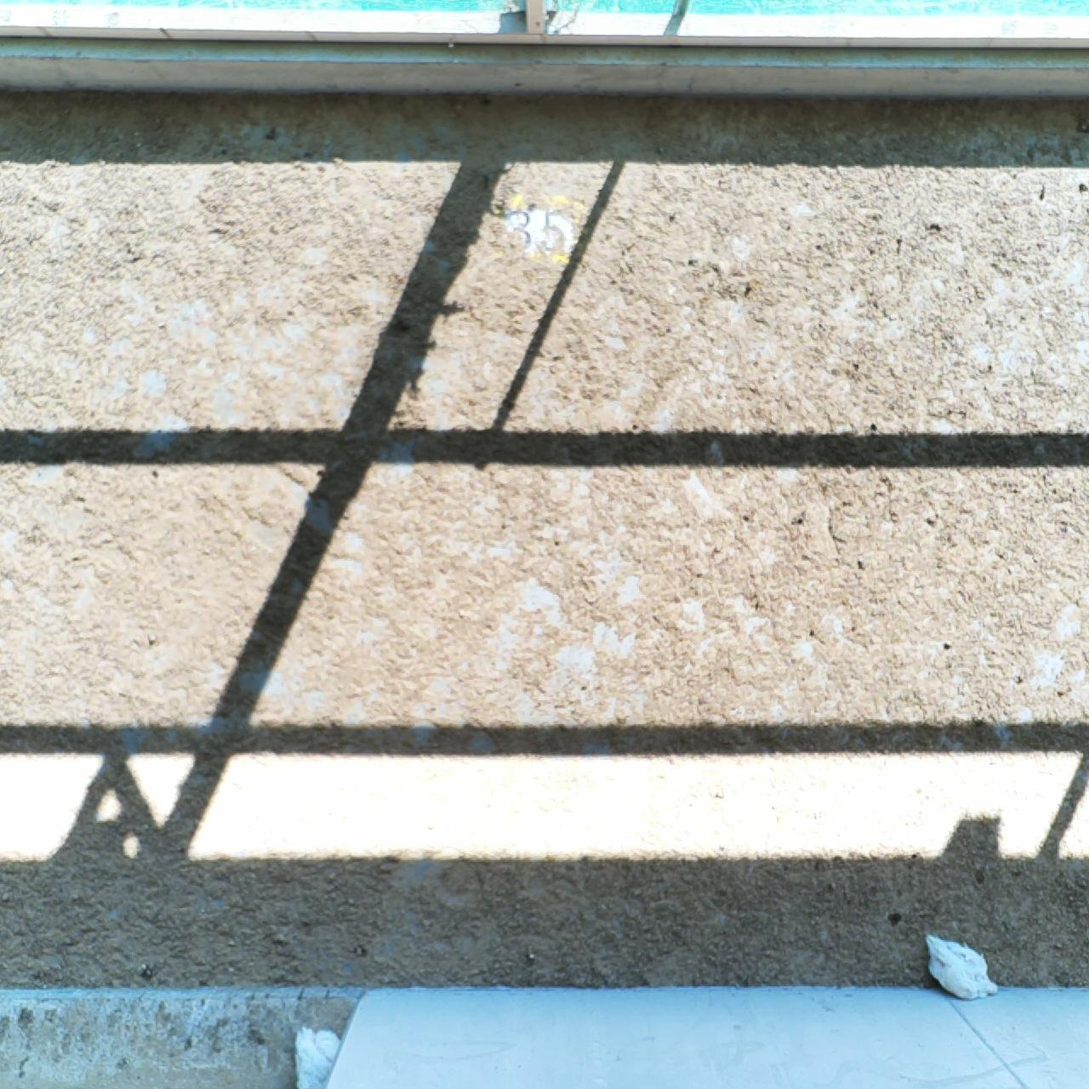chicken: (924, 936, 999, 1001), (293, 1029, 344, 1089)
